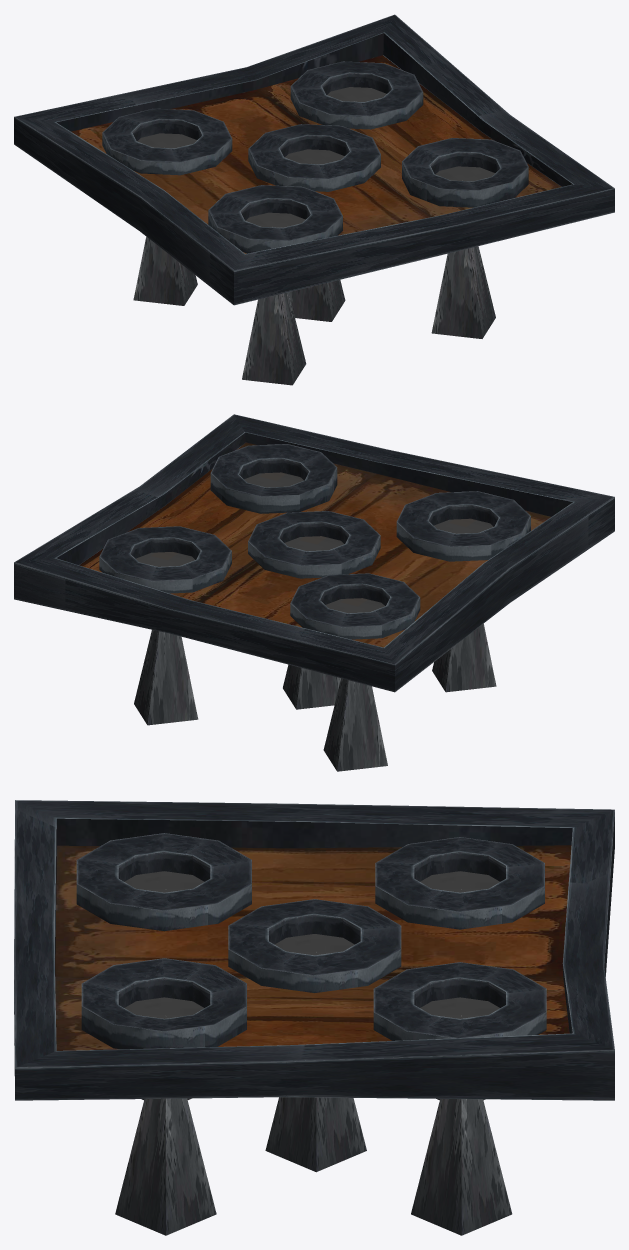
File: SpikeTrap.gltf
The picture shows the model from 3 angles, top to bottom: view 1: azimuth 30°, elevation 25°; view 2: azimuth 150°, elevation 25°; view 3: azimuth 270°, elevation 25°; orthographic projection. The views are drawn at different scales.
Parts seen in each view (by area): view 1: SpikeTrap, NormalSpikes; view 2: SpikeTrap, NormalSpikes; view 3: SpikeTrap, NormalSpikes.
Boxes of the visible parts, x1,y1,x2,y2 form: SpikeTrap: [14, 14, 614, 305]; NormalSpikes: [133, 180, 495, 385]; SpikeTrap: [14, 414, 614, 692]; NormalSpikes: [134, 623, 496, 771]; SpikeTrap: [14, 800, 614, 1100]; NormalSpikes: [115, 889, 512, 1235].
Size of the model in its own units: 2 by 0.8399 by 2.01.
2 materials, 1 textured.
